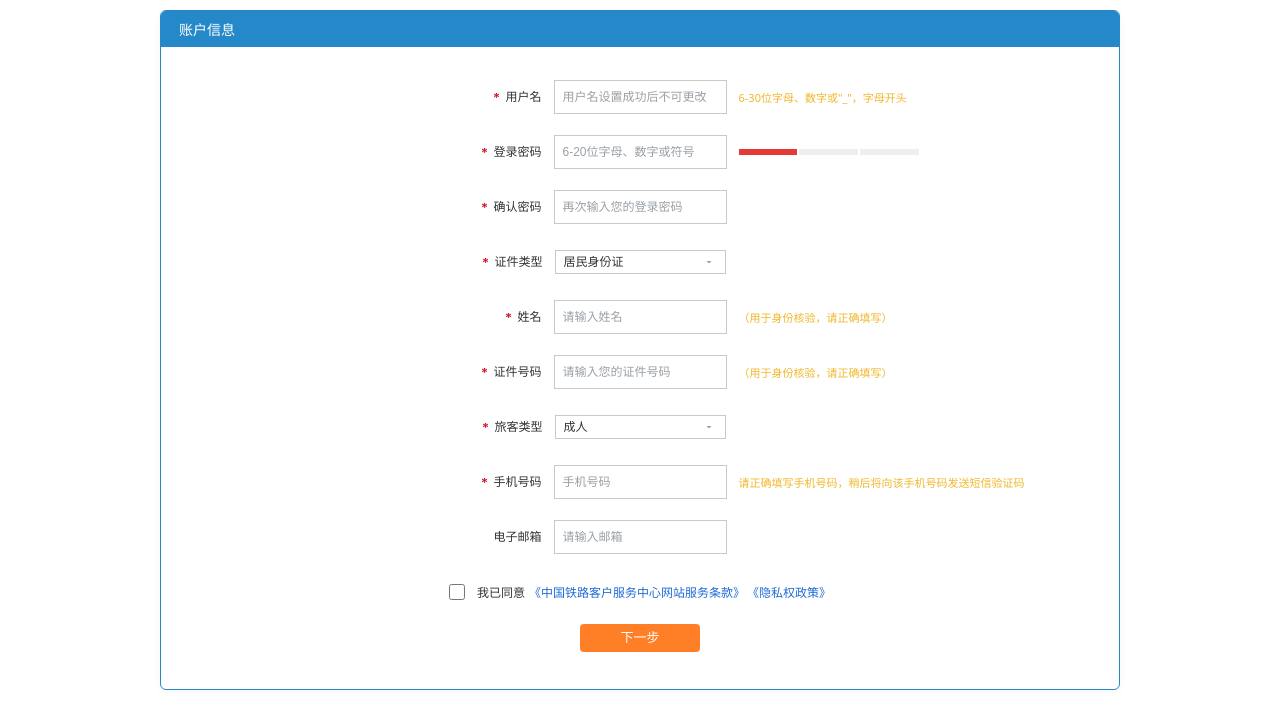
Scenario: UI-RegisterForm Scenarios › Given the username is already taken When the field loses focus Then it shows a username taken error message
In the field labelled "用户名": coordinates (640, 96) [554,80,726,114], type "existinguser"
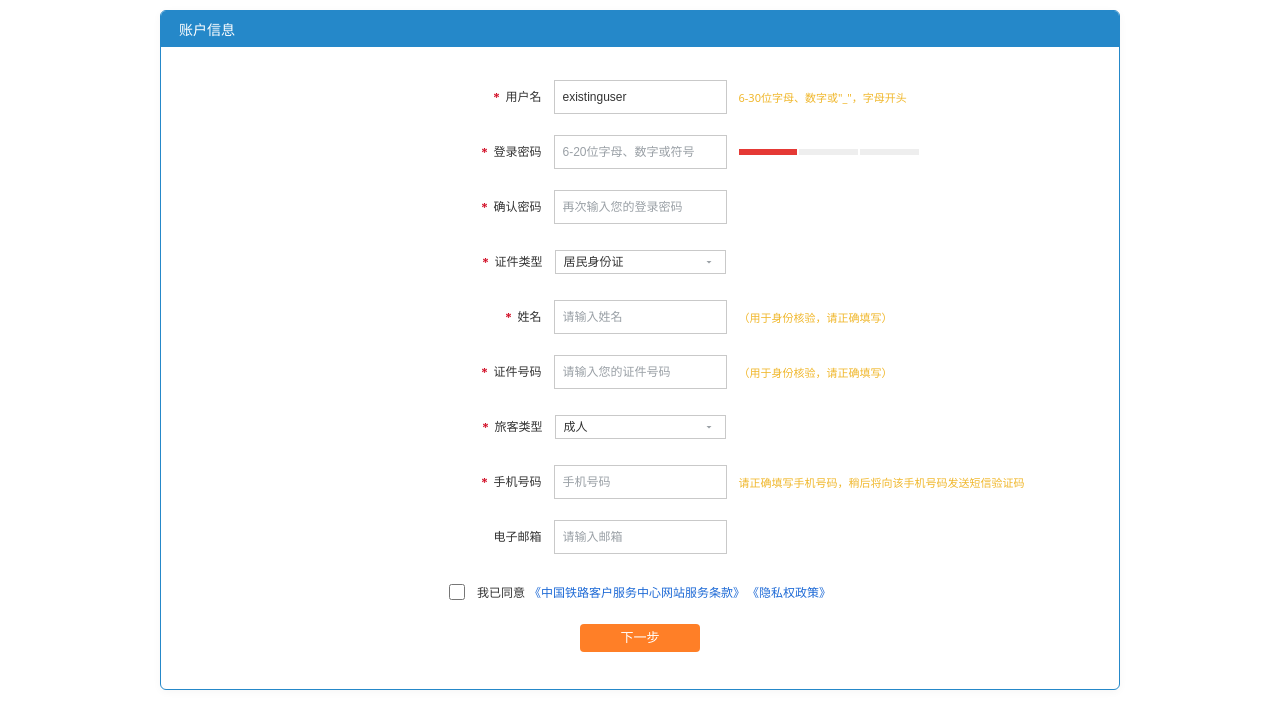
Leave the field labelled "用户名", box [554,80,726,114]
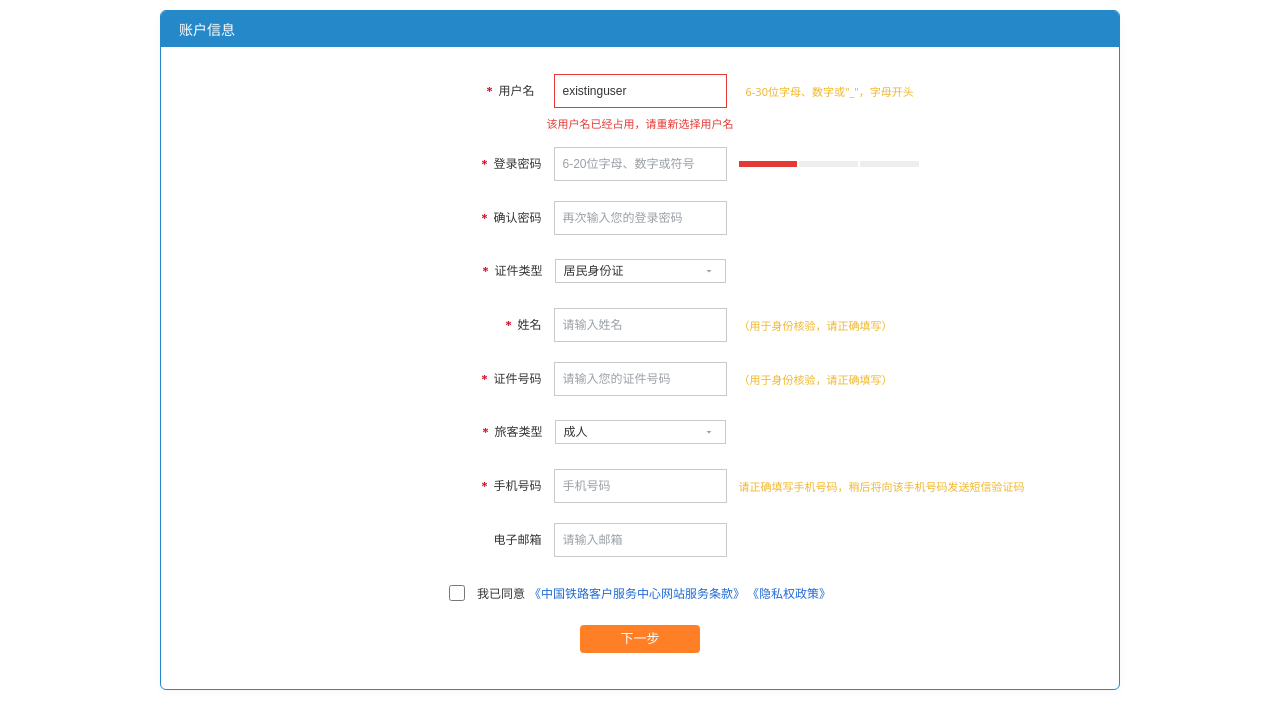
expect the text "该用户名已经占用，请重新选择用户名" is shown: met, box [546,115,734,131]
